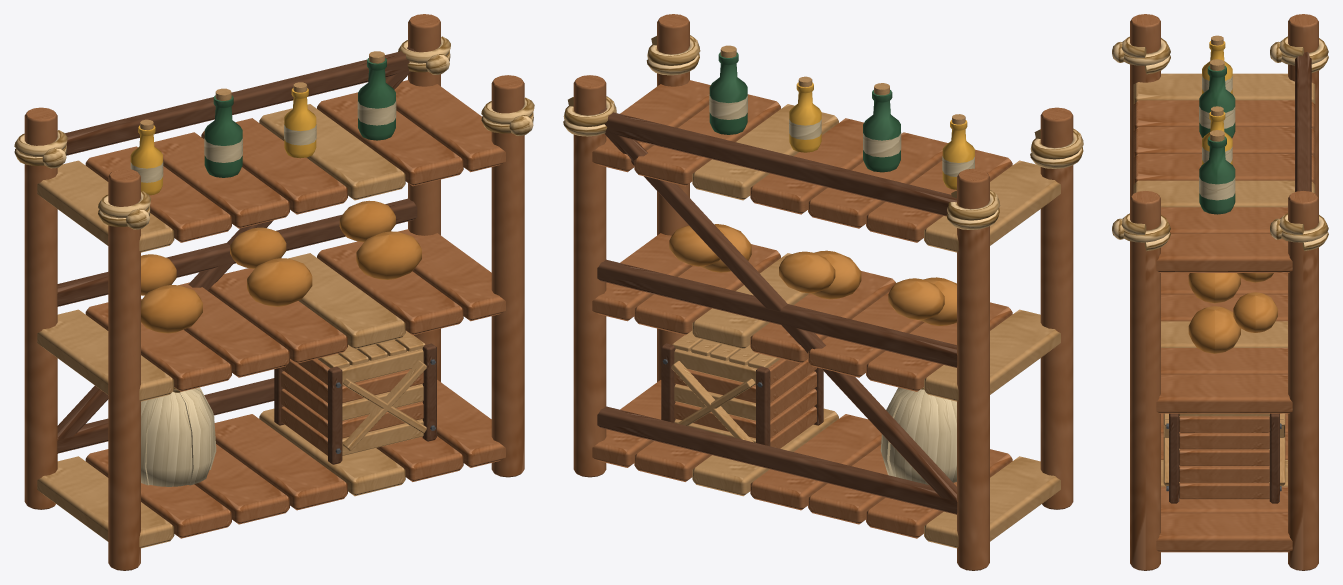
File: SM_SupplyShelf.glb
3 views of the same model, side by side, from view 1: azimuth 30°, elevation 25°; view 2: azimuth 150°, elevation 25°; view 3: azimuth 270°, elevation 25° (orthographic). The views are drawn at different scales.
Visible parts, largest first — view 1: SM_SupplyShelf; view 2: SM_SupplyShelf; view 3: SM_SupplyShelf.
Boxes of the visible parts, x1=… form: SM_SupplyShelf: x1=14, y1=14, x2=534, y2=570; SM_SupplyShelf: x1=563, y1=14, x2=1083, y2=570; SM_SupplyShelf: x1=1112, y1=14, x2=1328, y2=570.
Size of the model in its own units: 1.96 by 1.79 by 0.9071.
Materials: 1 (1 with a texture image).
